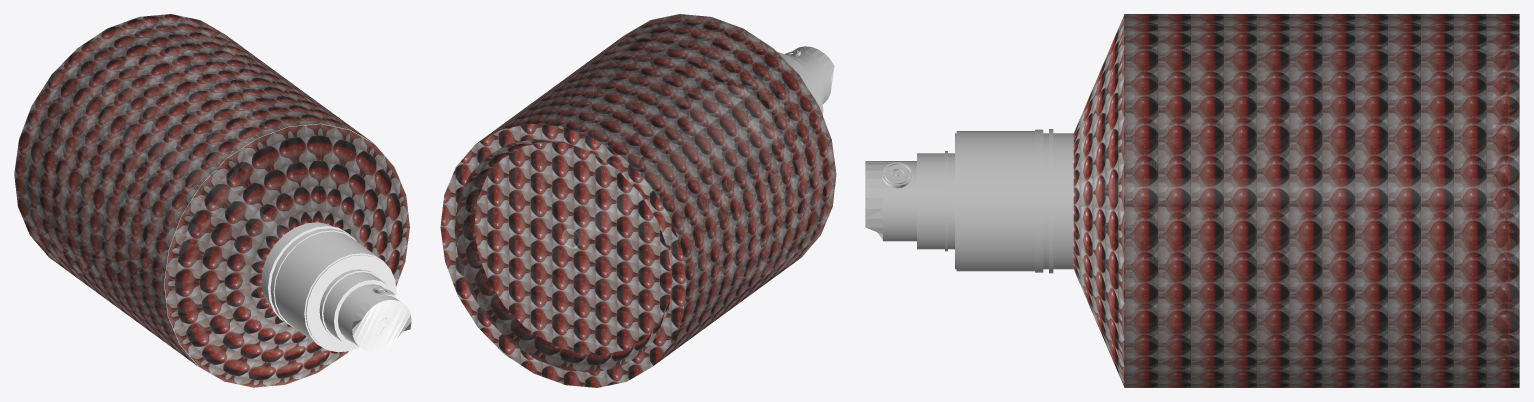
File: model_scale.obj
3 views of the same model, side by side, from view 1: azimuth 30°, elevation 25°; view 2: azimuth 150°, elevation 25°; view 3: azimuth 270°, elevation 25° (orthographic). The views are drawn at different scales.
Visible parts, largest first — view 1: mesh1_mesh1-geometry; view 2: mesh1_mesh1-geometry; view 3: mesh1_mesh1-geometry.
Part boxes in pixels (x1=…): mesh1_mesh1-geometry: x1=14, y1=14, x2=411, y2=387; mesh1_mesh1-geometry: x1=440, y1=14, x2=836, y2=387; mesh1_mesh1-geometry: x1=865, y1=14, x2=1519, y2=387.
Size of the model in its own units: 0.12 by 0.12 by 0.2093.
